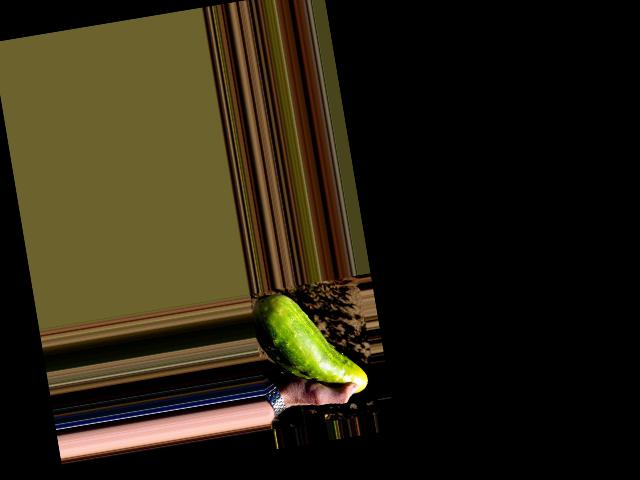cucumber: (248, 280, 369, 407)
